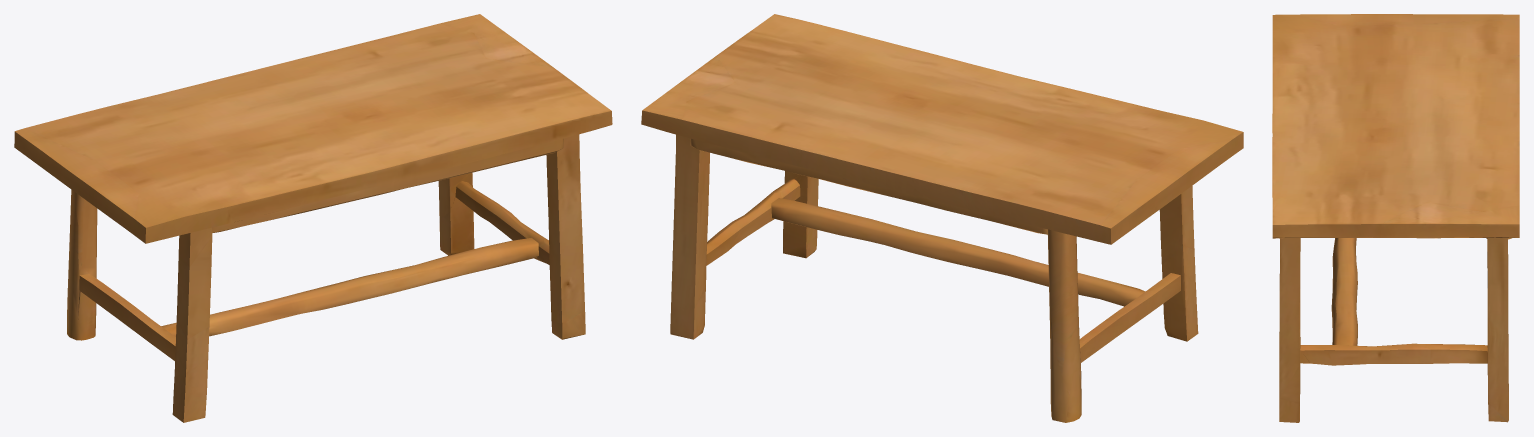
The model's file is table.glb.
3 views of the same model, side by side, from view 1: azimuth 30°, elevation 25°; view 2: azimuth 150°, elevation 25°; view 3: azimuth 270°, elevation 25° (orthographic). The views are drawn at different scales.
Parts seen in each view (by area): view 1: model; view 2: model; view 3: model.
Boxes of the visible parts, x1=… form: model: x1=14, y1=14, x2=612, y2=422; model: x1=641, y1=14, x2=1243, y2=422; model: x1=1272, y1=14, x2=1519, y2=422.
Size of the model in its own units: 1.9 by 0.8729 by 0.9264.
Materials: 1 (1 with a texture image).
